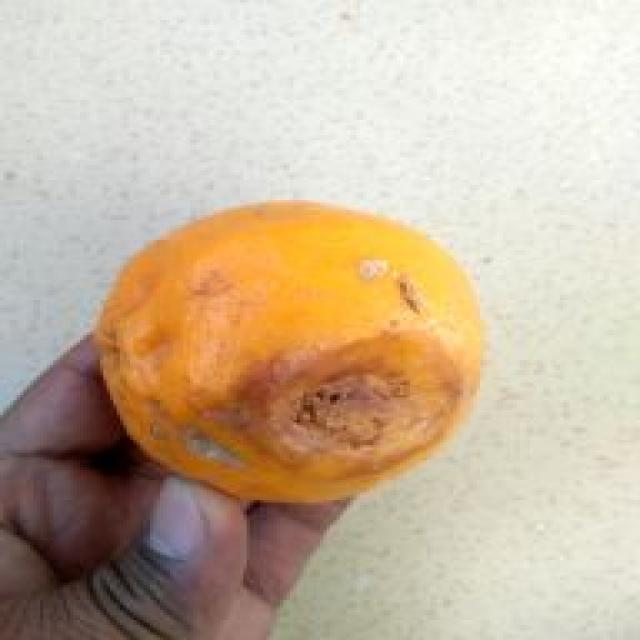Bad_Orange: (95, 201, 483, 501)
